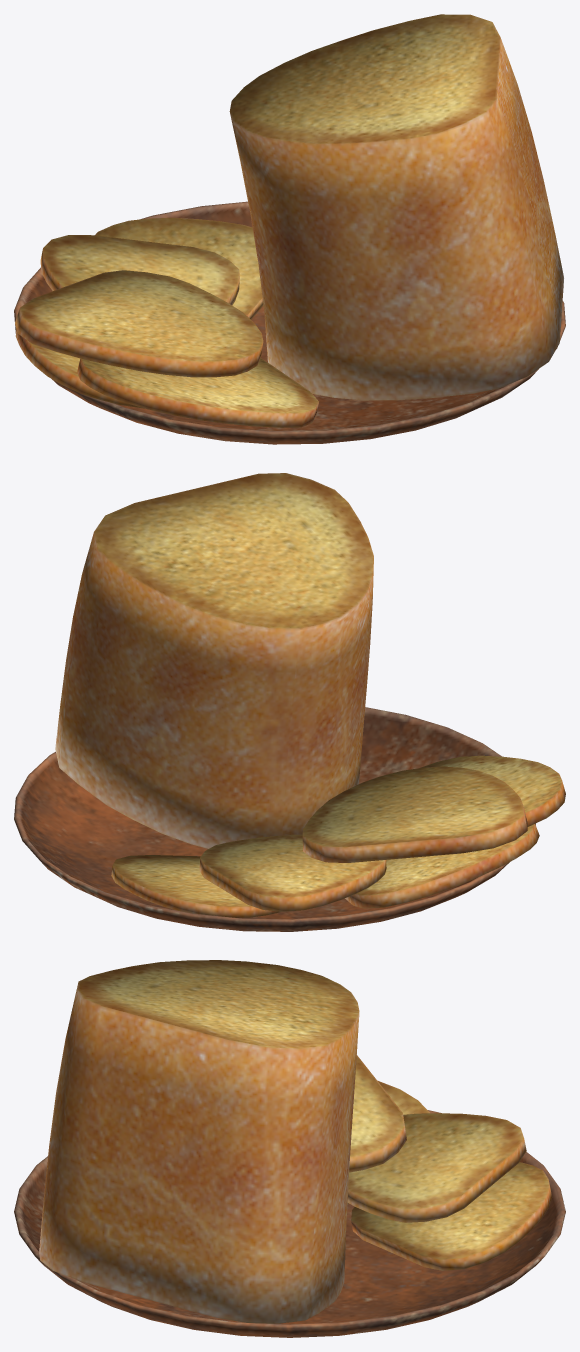
File: bread slice.fbx
The picture shows the model from 3 angles, top to bottom: view 1: azimuth 30°, elevation 25°; view 2: azimuth 150°, elevation 25°; view 3: azimuth 270°, elevation 25°; orthographic projection. The views are drawn at different scales.
Parts seen in each view (by area): view 1: Bread_Slices__0.005, Bread_Slices__0.001, Bread_Slices__0, Bread_Slices__0.002, Bread_Slices__0.003, Bread_Slices__0.004, Bread_Slices__0.006; view 2: Bread_Slices__0.005, Bread_Slices__0, Bread_Slices__0.001, Bread_Slices__0.003, Bread_Slices__0.006, Bread_Slices__0.004, Bread_Slices__0.002; view 3: Bread_Slices__0.005, Bread_Slices__0, Bread_Slices__0.003, Bread_Slices__0.004, Bread_Slices__0.001, Bread_Slices__0.006.
Part boxes in pixels (x1,y1,x2,y2): Bread_Slices__0.005: (229,14,563,400); Bread_Slices__0.001: (15,270,263,377); Bread_Slices__0: (14,201,565,444); Bread_Slices__0.002: (77,358,318,427); Bread_Slices__0.003: (40,235,239,305); Bread_Slices__0.004: (95,217,263,319); Bread_Slices__0.006: (15,329,144,408); Bread_Slices__0.005: (55,473,373,848); Bread_Slices__0: (14,707,535,931); Bread_Slices__0.001: (302,766,527,862); Bread_Slices__0.003: (199,834,386,911); Bread_Slices__0.006: (345,824,539,908); Bread_Slices__0.004: (111,855,280,917); Bread_Slices__0.002: (419,755,565,826); Bread_Slices__0.005: (39,960,359,1323); Bread_Slices__0: (14,1110,565,1337); Bread_Slices__0.003: (347,1113,526,1222); Bread_Slices__0.004: (351,1162,552,1270); Bread_Slices__0.001: (349,1055,406,1172); Bread_Slices__0.006: (347,1080,429,1204).
Bounding box in the file's own units: 0.4325 × 0.2532 × 0.4087.
1 material, 1 textured.
